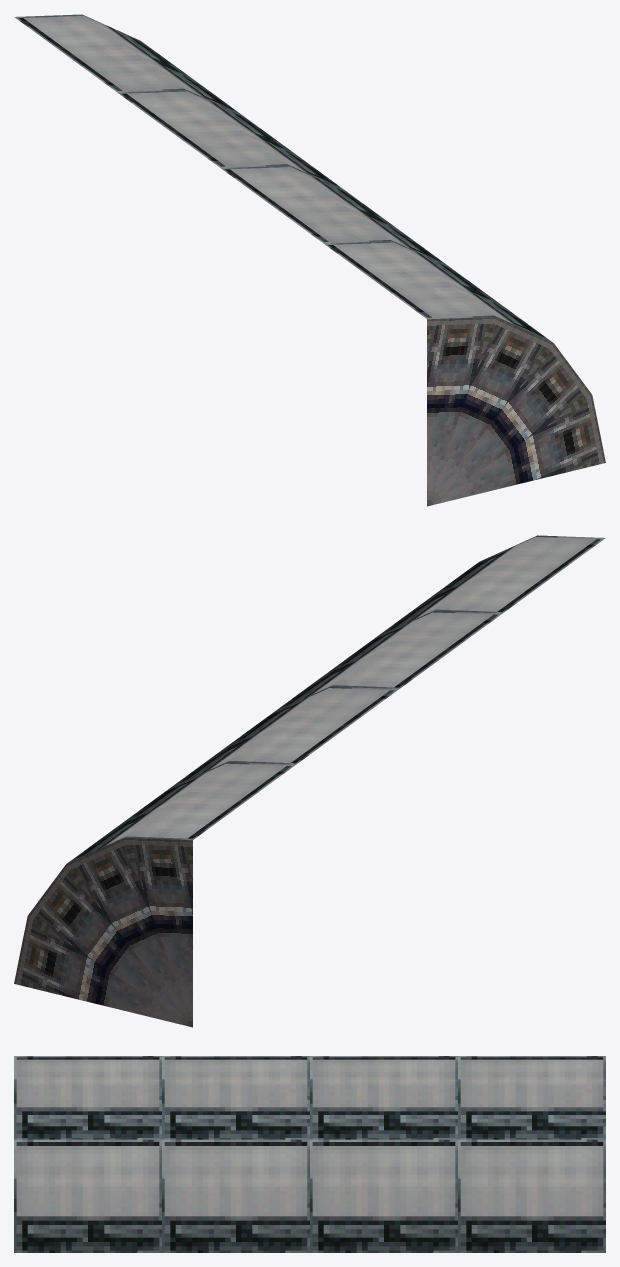
The picture shows the model from 3 angles, top to bottom: view 1: azimuth 30°, elevation 25°; view 2: azimuth 150°, elevation 25°; view 3: azimuth 270°, elevation 25°; orthographic projection. The views are drawn at different scales.
Parts seen in each view (by area): view 1: Slim_obj_068; view 2: Slim_obj_068; view 3: Slim_obj_068.
Boxes of the visible parts, x1,y1,x2,y2 form: Slim_obj_068: [14, 14, 605, 506]; Slim_obj_068: [14, 535, 605, 1027]; Slim_obj_068: [14, 1056, 605, 1252].
Size of the model in its own units: 1 by 1 by 4.
2 materials, 2 textured.
